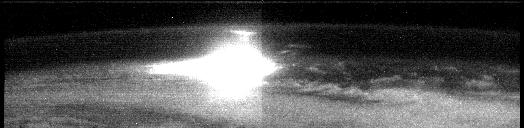negative: (231, 27, 258, 42)
